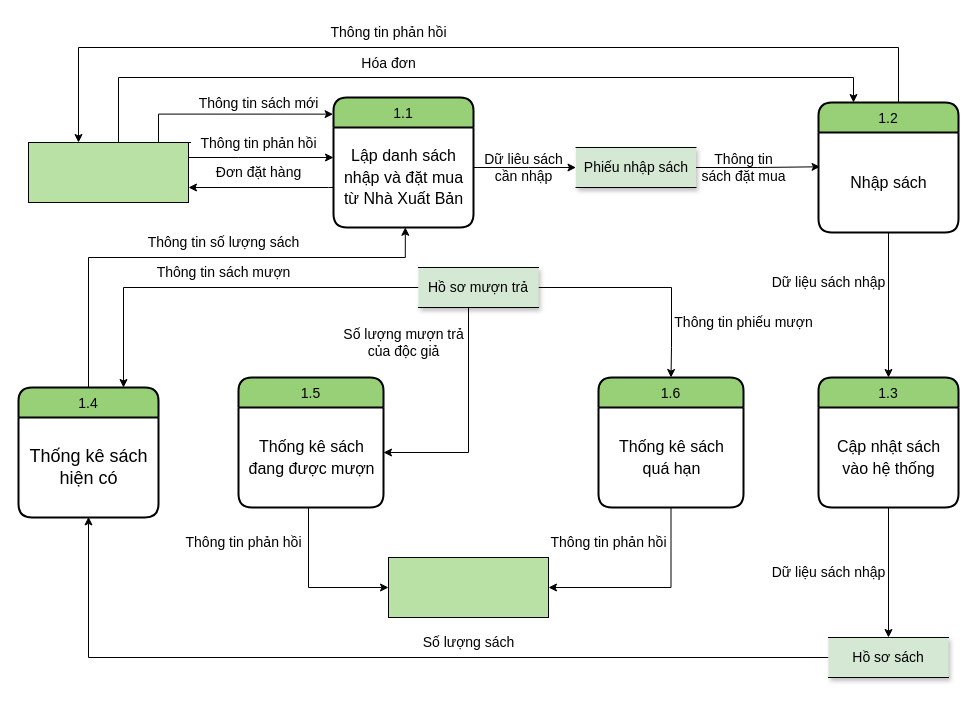
This 976x702 diagram has some shape labels left out. Each missing label, with the centre of its shape:
"NHÀ XUẤT BẢN" belongs at pixel 108 172.
"THỦ THƯ" belongs at pixel 468 587.
